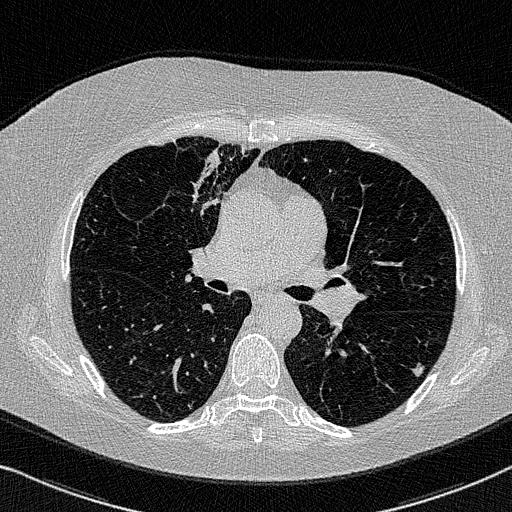nodule: (411, 362, 427, 378)
